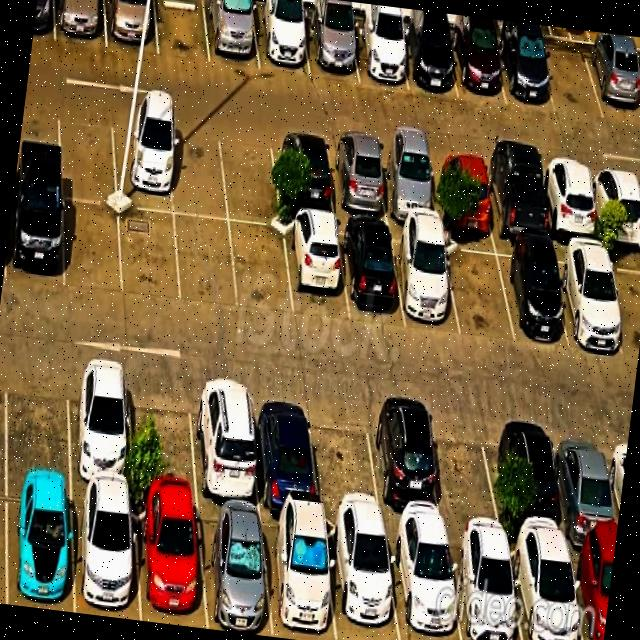empty: (430, 406, 503, 538), (309, 394, 382, 523), (129, 368, 198, 500), (6, 354, 70, 481), (442, 236, 514, 341), (218, 125, 281, 227), (174, 215, 238, 309), (168, 119, 228, 219), (229, 223, 293, 316), (119, 207, 180, 304), (58, 104, 116, 203), (64, 199, 122, 295), (539, 39, 603, 118), (605, 248, 640, 358), (155, 0, 210, 62)
occupied: (196, 502, 273, 637), (366, 400, 445, 530), (132, 495, 207, 628), (261, 511, 336, 640), (72, 486, 140, 620), (325, 517, 399, 640), (191, 376, 259, 508), (6, 480, 73, 612), (250, 384, 319, 512), (68, 359, 133, 491), (501, 412, 567, 542), (385, 528, 461, 640), (552, 419, 618, 547), (447, 532, 522, 640), (552, 243, 625, 351), (508, 538, 582, 640), (390, 228, 460, 334), (494, 241, 567, 342), (338, 221, 405, 324), (284, 215, 348, 321), (111, 112, 173, 213), (481, 155, 549, 241), (6, 187, 63, 289), (271, 132, 335, 216), (429, 149, 493, 232), (375, 142, 439, 223), (326, 137, 389, 219), (539, 160, 600, 241), (495, 31, 555, 112), (567, 543, 615, 640), (448, 26, 506, 104), (583, 44, 640, 123), (397, 24, 457, 97), (251, 2, 310, 76), (349, 18, 408, 89), (589, 164, 640, 245), (204, 0, 259, 70), (304, 12, 358, 81), (104, 0, 158, 54), (54, 0, 106, 47)
